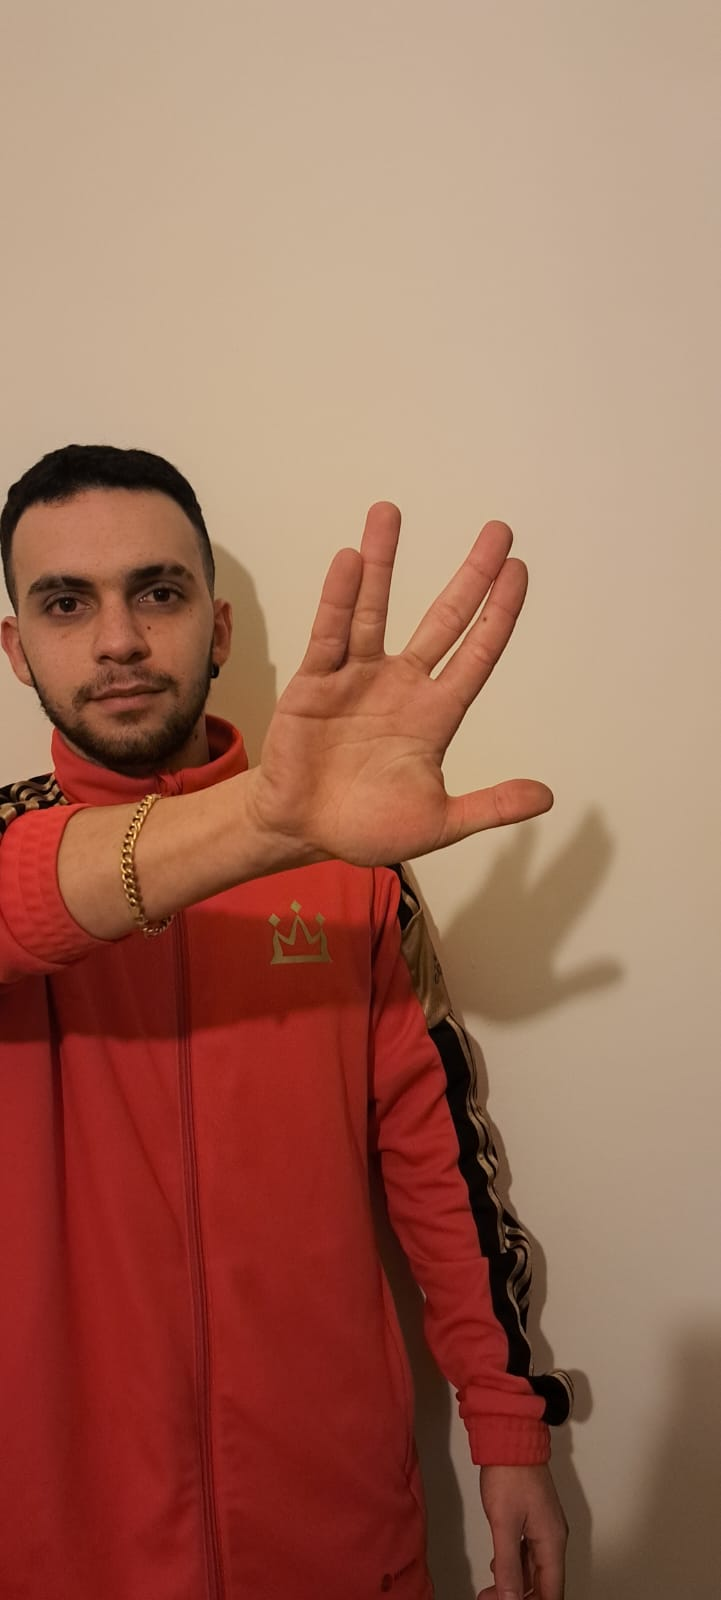alien: (266, 497, 566, 876)
